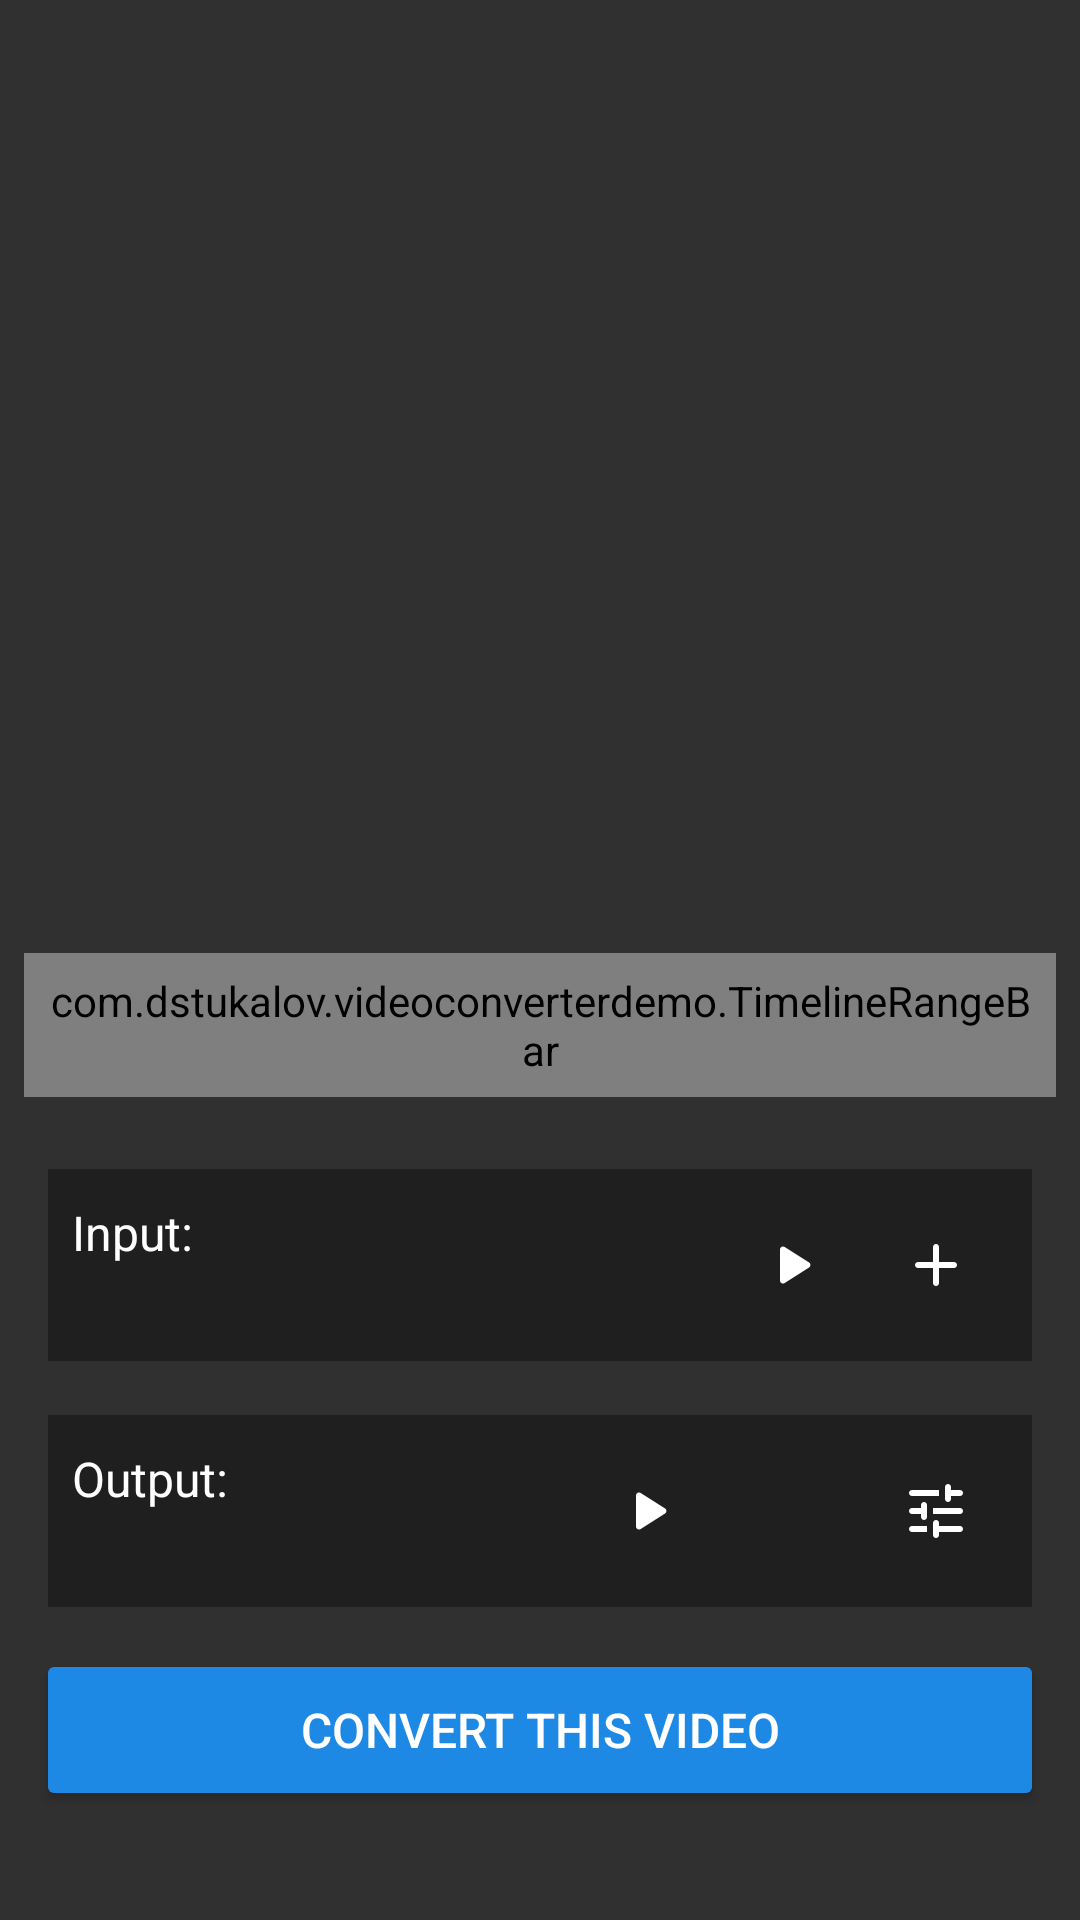

Locate icon controls on the screen. Image size 1080*1920, boxes as (x1, y1, x2, y2).
pick: (915, 1244, 957, 1286)
play: (780, 1246, 811, 1284), (636, 1492, 667, 1530)
settings: (909, 1484, 963, 1538)
